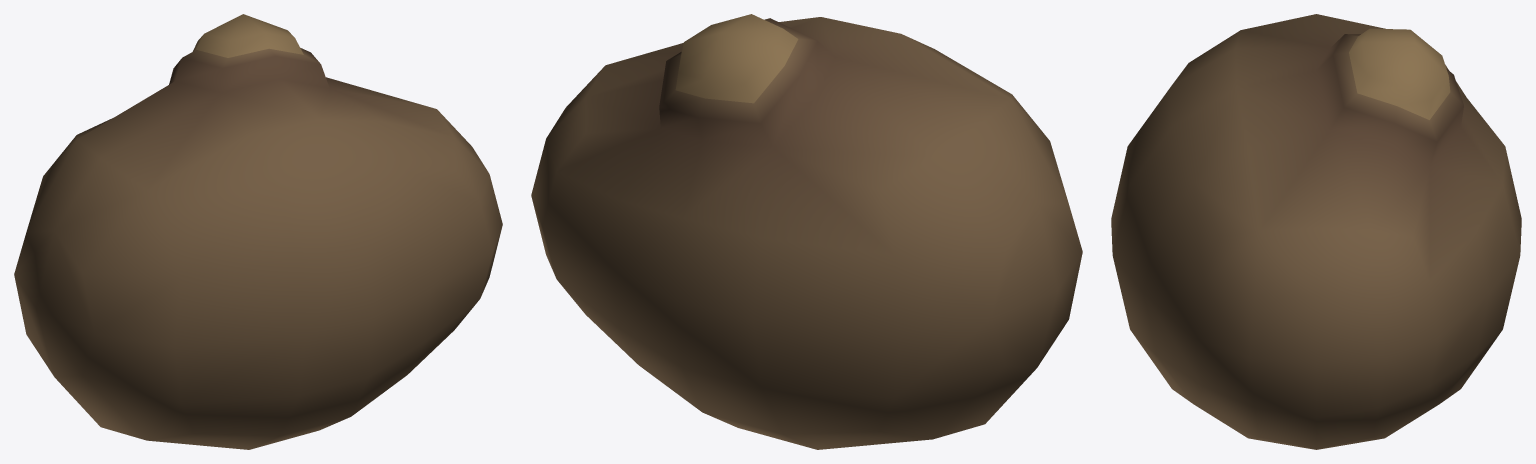
The model's file is microscopic-cells-yeast-cell_v3.glb.
The picture shows the model from 3 angles, left to right: view 1: azimuth 30°, elevation 25°; view 2: azimuth 150°, elevation 25°; view 3: azimuth 270°, elevation 25°; orthographic projection. The views are drawn at different scales.
Visible parts, largest first — view 1: Yeast Cell_v3; view 2: Yeast Cell_v3; view 3: Yeast Cell_v3.
Boxes of the visible parts, <box> form: Yeast Cell_v3: <box>14,14,502,449</box>; Yeast Cell_v3: <box>531,14,1082,449</box>; Yeast Cell_v3: <box>1111,14,1521,449</box>.
Bounding box in the file's own units: 0.5 × 0.3954 × 0.3647.
